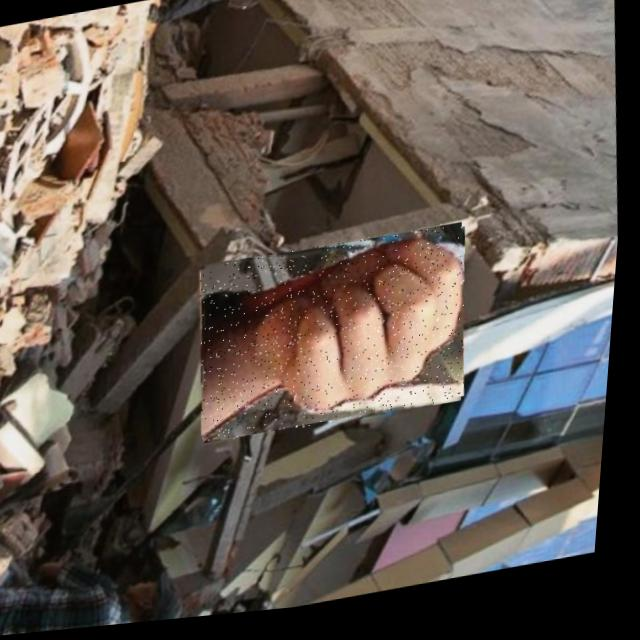Person in Rubble: (192, 228, 481, 451)
